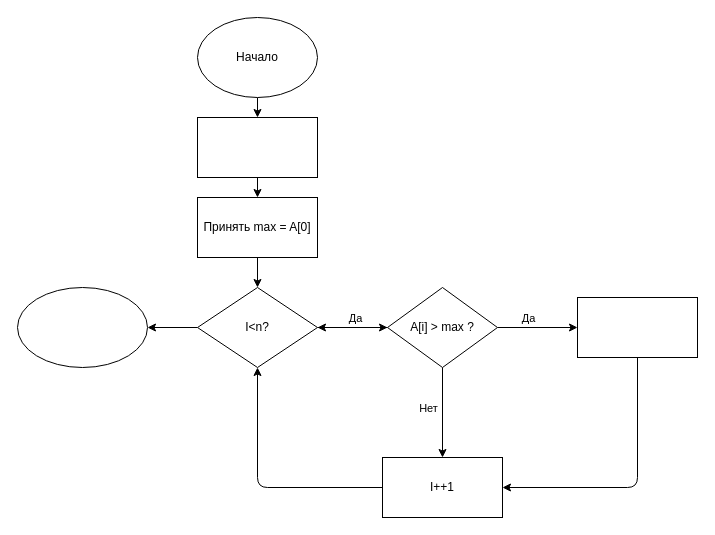
The diagram is 715 pixels wide and 535 high, and some of its shapes have lost their labels. The shapes that lost their labels are listed below. From the top down, each one's box as (x1, y1, x2, y2) in pixels, then its label:
(196, 116, 318, 178): Задание массива A размером т
(16, 286, 148, 368): Конец
(576, 296, 698, 358): max = A[i]
